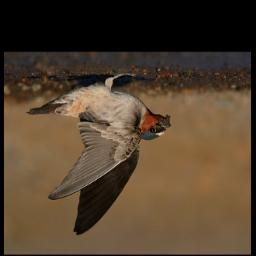Swallow: (25, 71, 172, 236)
